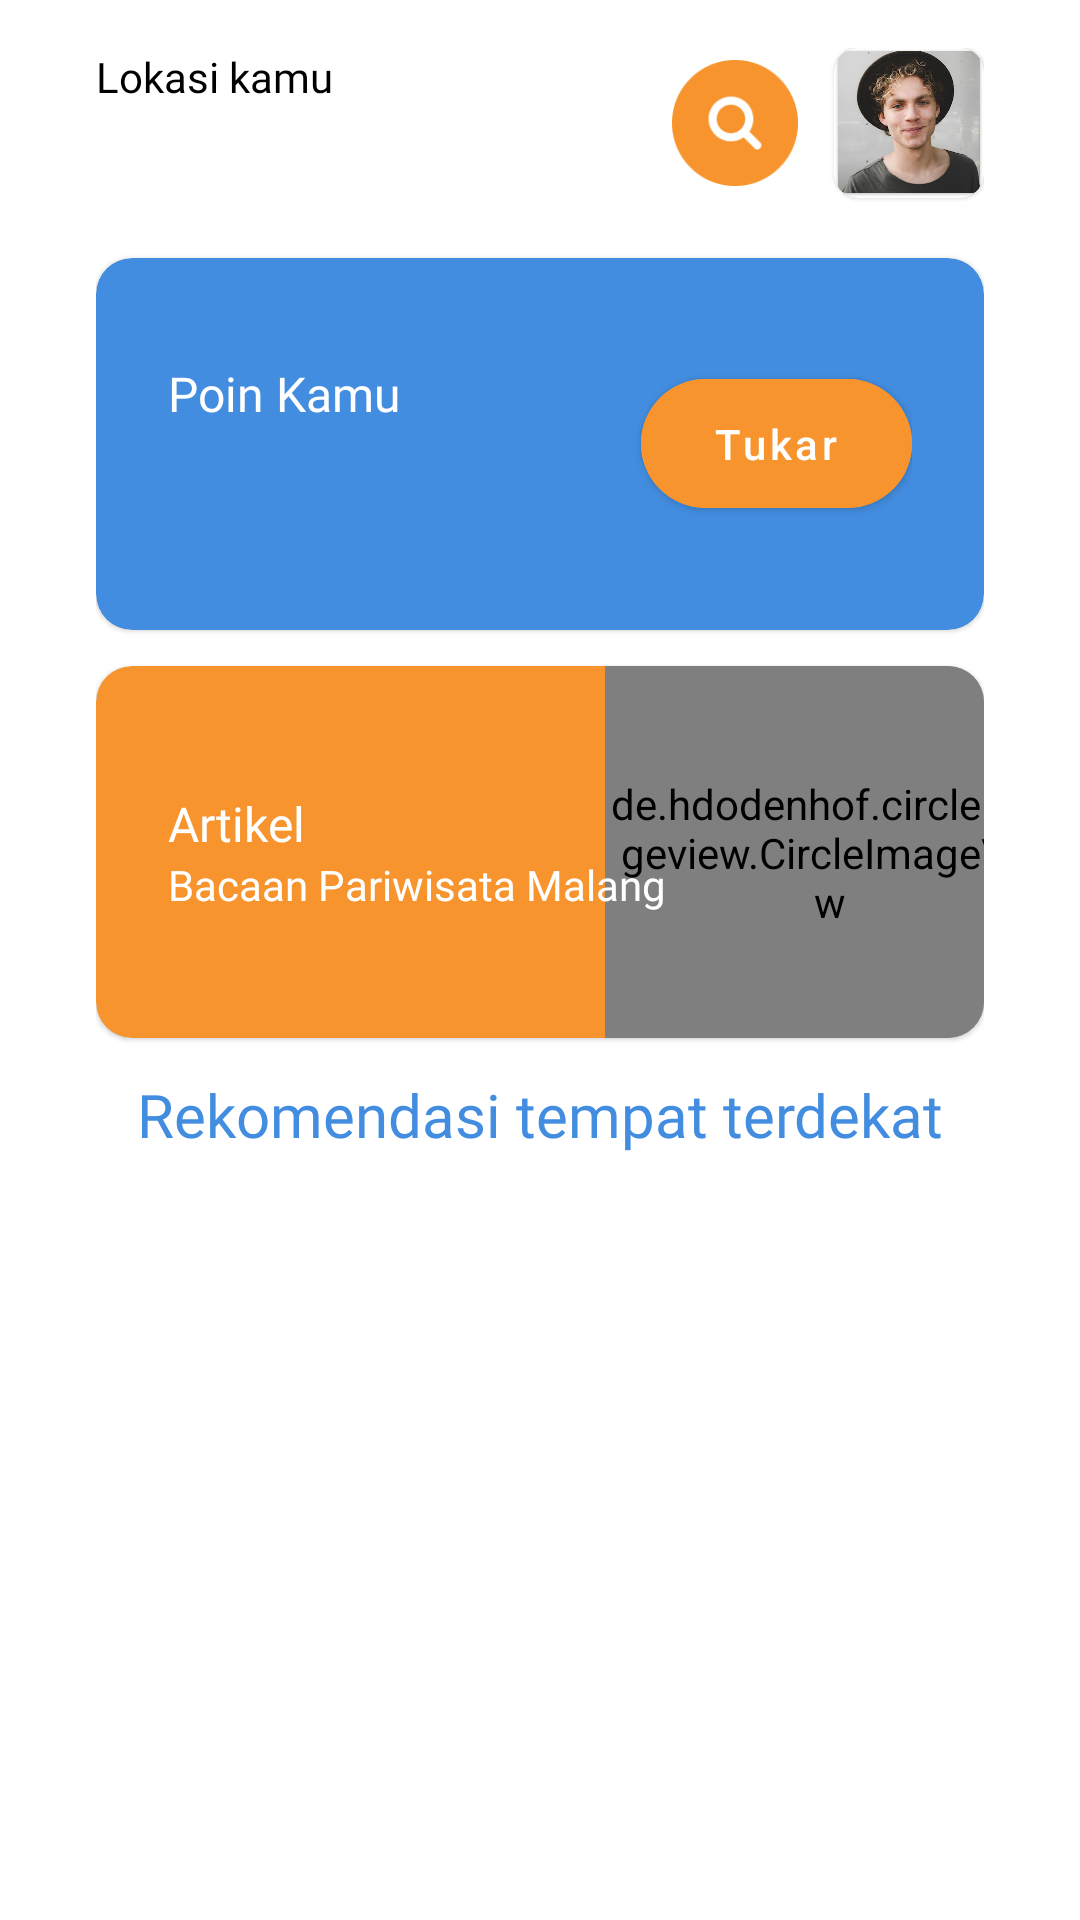

Locate icon controls on the screen. Image size 1080x1920, boxes as box(x1, y1, x2, y2).
circle search: box(672, 60, 798, 186)
